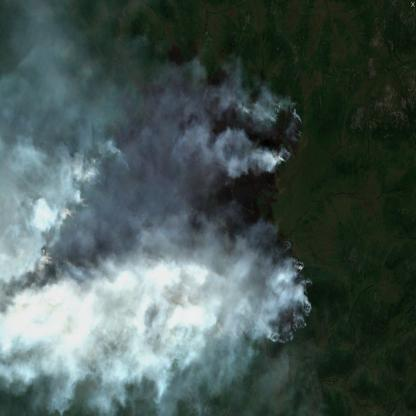fire: (45, 99, 314, 349)
